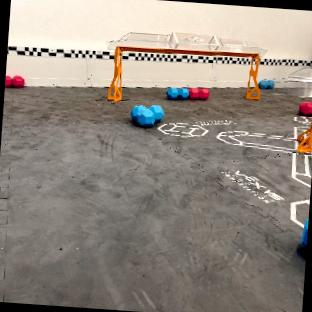Goal: (108, 32, 264, 102)
V5_BLUE: (131, 105, 163, 126), (166, 88, 189, 99), (259, 80, 274, 88)
V5_RED: (4, 75, 24, 87), (189, 88, 209, 99), (299, 101, 312, 115)
